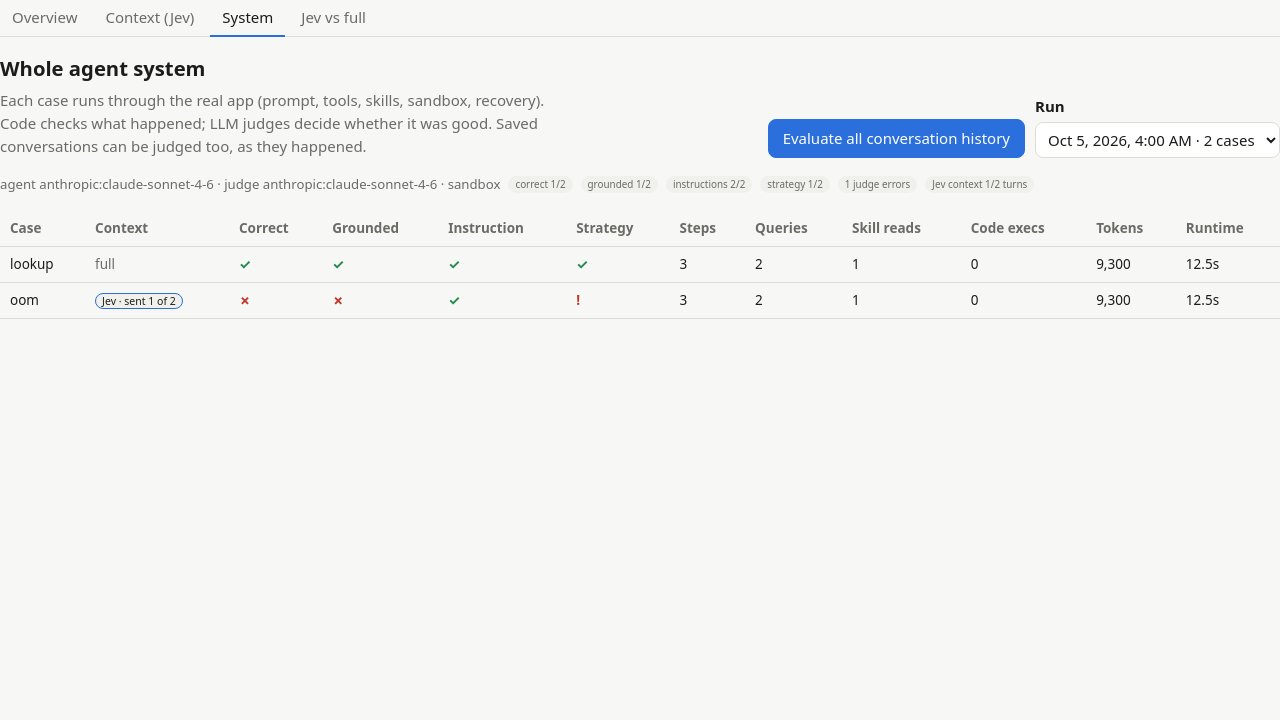
it: System eval › opens a case to show the judgments, trace and queries
Click the row "lookup full ✓ ✓ ✓ ✓ 3 2 1 0 9,300 12.5s" at (640, 264), box [0, 246, 1279, 282]
(page scrolled)
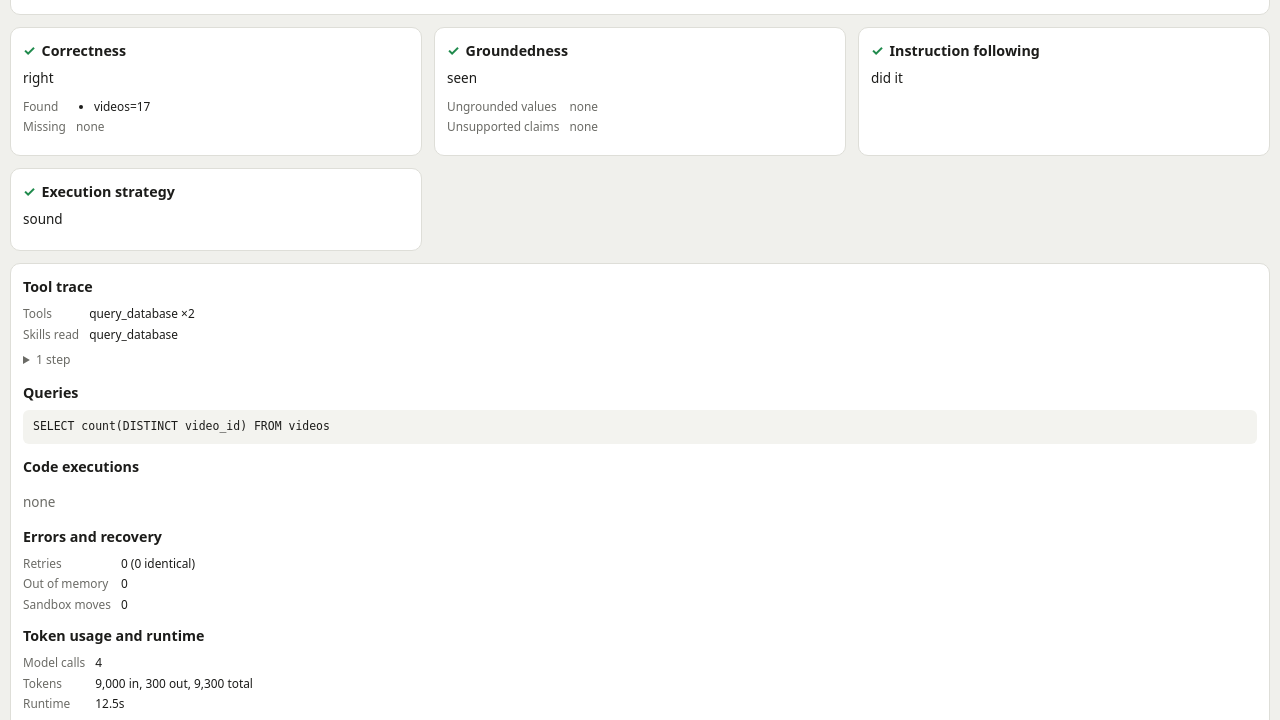
Check: the text "SELECT count(DISTINCT video_id) FROM videos" is shown, box [23, 410, 1257, 444]
Check: the heading "1 step" is shown, box [36, 351, 70, 368]
